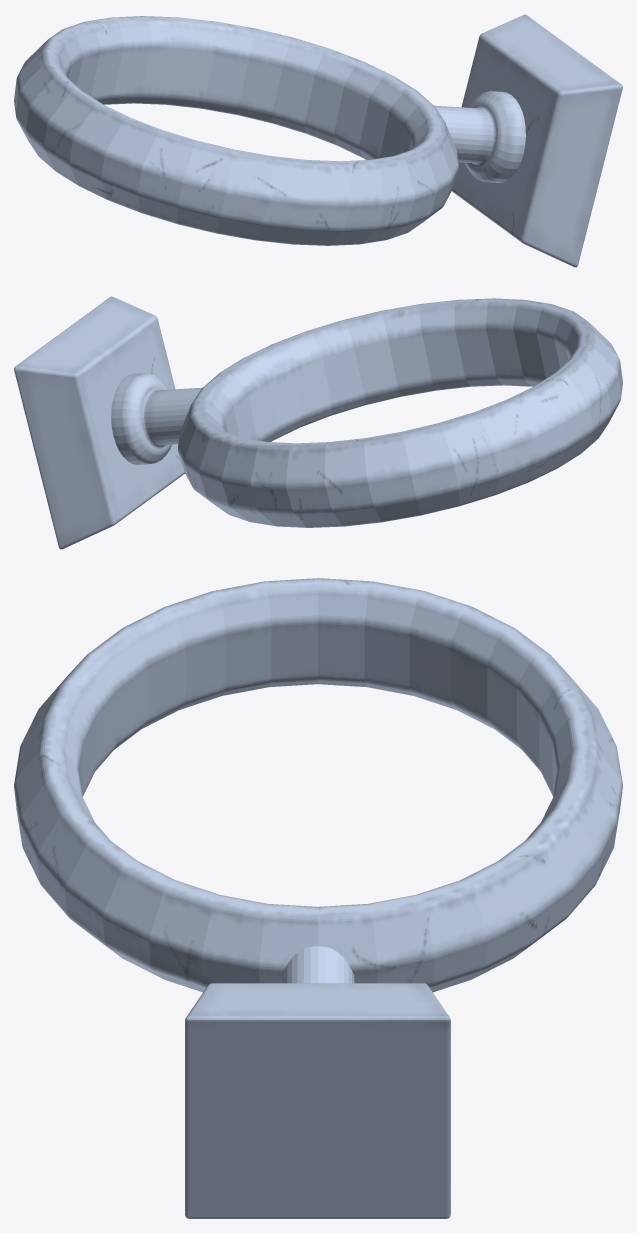
File: torch_holder.fbx
3 views of the same model, one above another, from view 1: azimuth 30°, elevation 25°; view 2: azimuth 150°, elevation 25°; view 3: azimuth 270°, elevation 25° (orthographic). The views are drawn at different scales.
Parts seen in each view (by area): view 1: Holders_Metal; view 2: Holders_Metal; view 3: Holders_Metal.
Part boxes in pixels (x1,y1,x2,y2): Holders_Metal: (14, 14, 622, 267); Holders_Metal: (14, 296, 622, 549); Holders_Metal: (14, 578, 622, 1218).
Bounding box in the file's own units: 33.52 × 15.24 × 24.69.
Materials: 1 (1 with a texture image).
